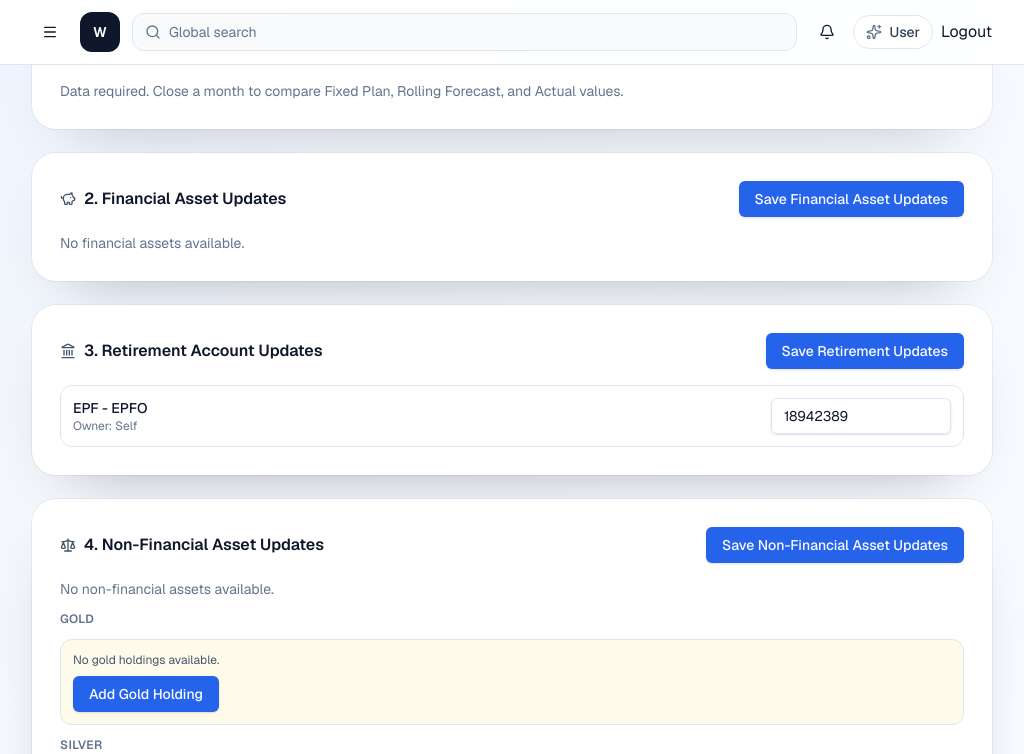
Test: MonthlyReviewPage › shows an error and no success toast when retirement reload remains stale
This screenshot has width=1024, height=754.
(page scrolled)
Expected: the heading "3. Retirement Account Updates" is shown, [84,339,322,363]
Replace the text in the number field named "Retirement balance EPF EPFO" with "18886844": (861, 416) [771,398,951,434]
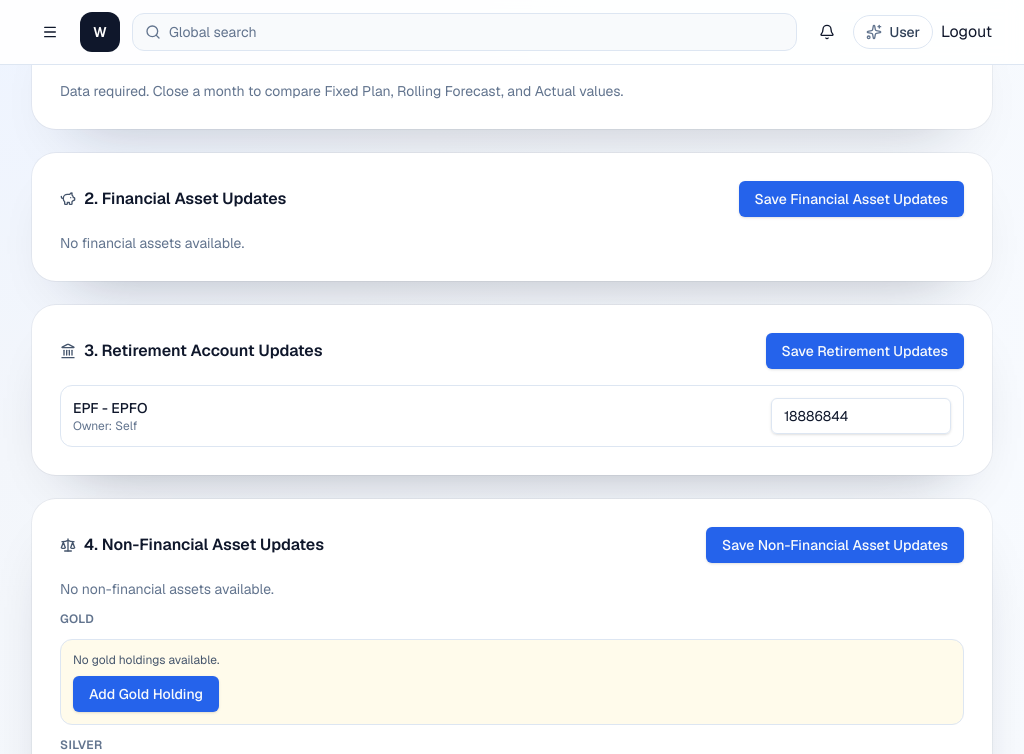
Click the button "Save Retirement Updates": (865, 351) [766,333,964,369]
(page scrolled)
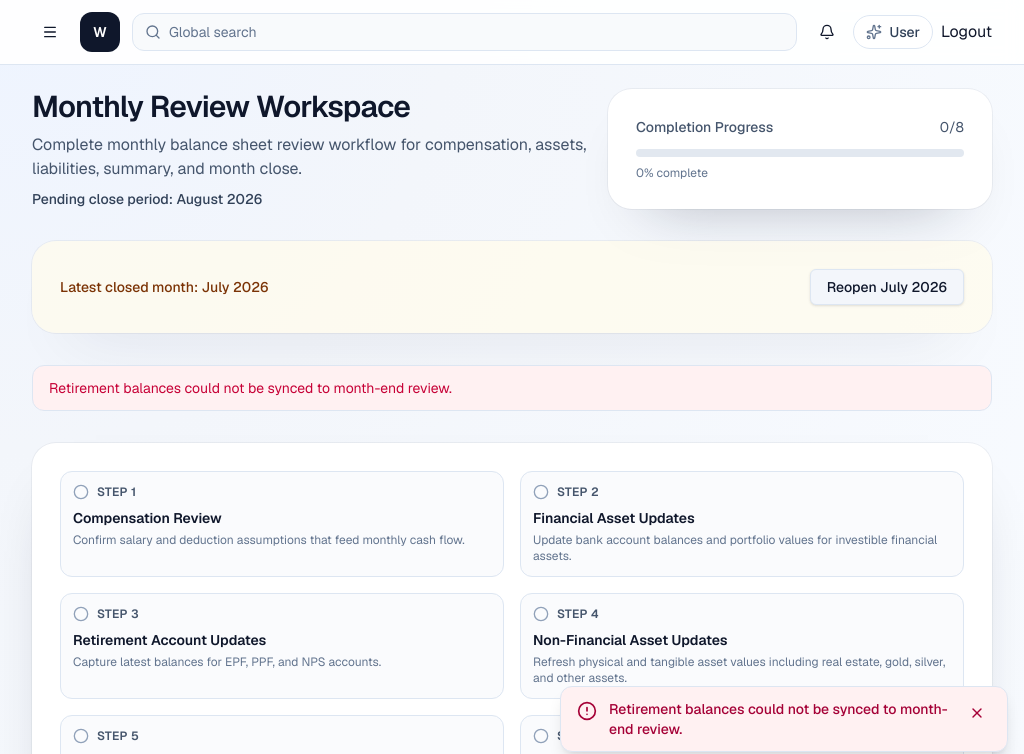
Expected: the 1st text "Retirement balances could not be synced to month-end review." is shown, [32,365,992,411]
